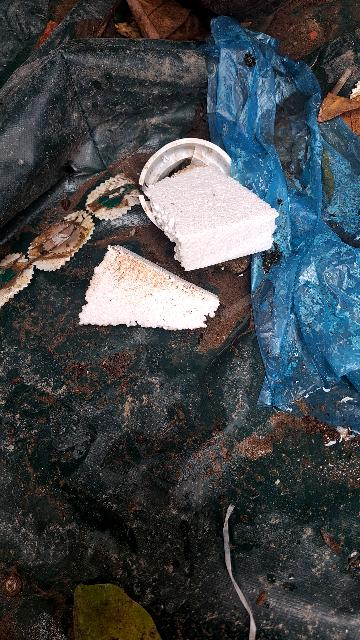cocksheet: (55, 128, 308, 366)
